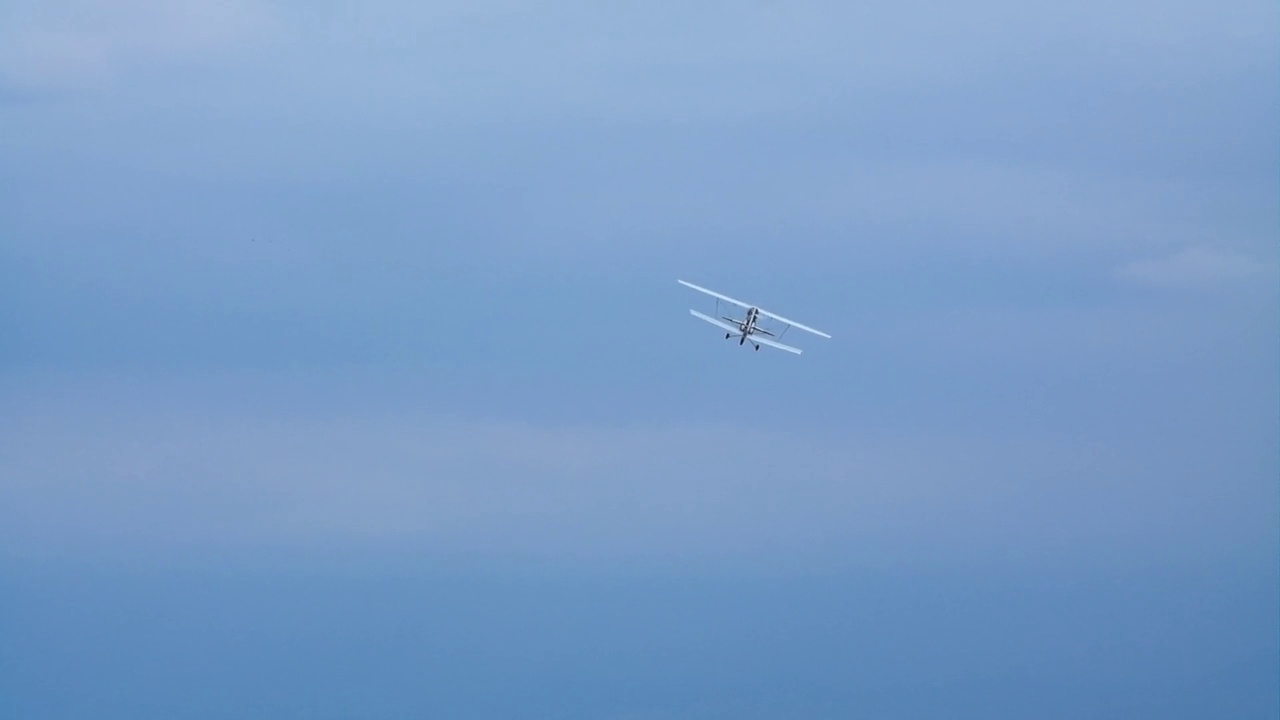plane: (677, 277, 833, 354)
